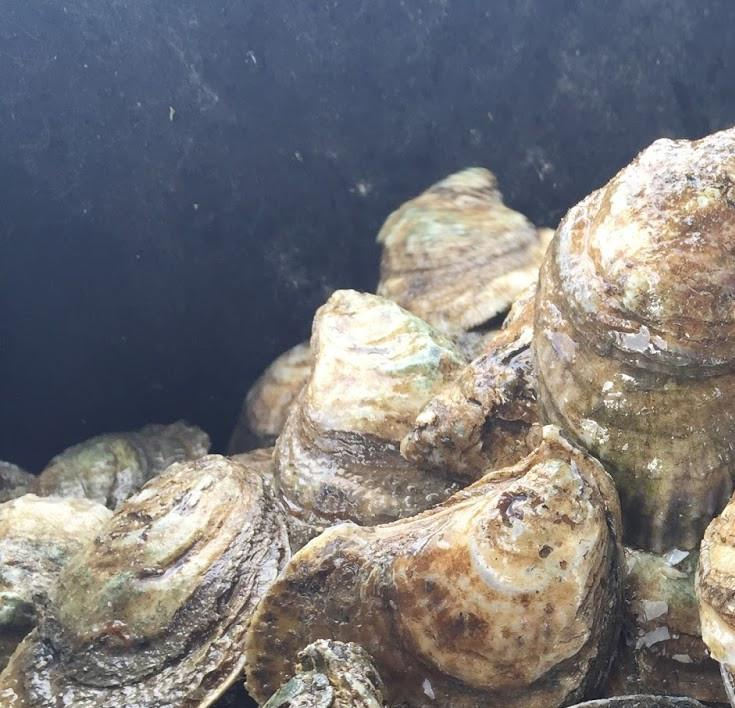Oyster-Closed: (0, 453, 292, 708), (398, 294, 540, 481), (239, 341, 309, 446)
Oyster-Open: (245, 438, 623, 708), (533, 128, 735, 555), (275, 290, 486, 525), (377, 167, 540, 334), (601, 551, 726, 704), (0, 495, 114, 630), (39, 420, 213, 508), (228, 449, 327, 555), (695, 499, 735, 671), (0, 463, 38, 504)
